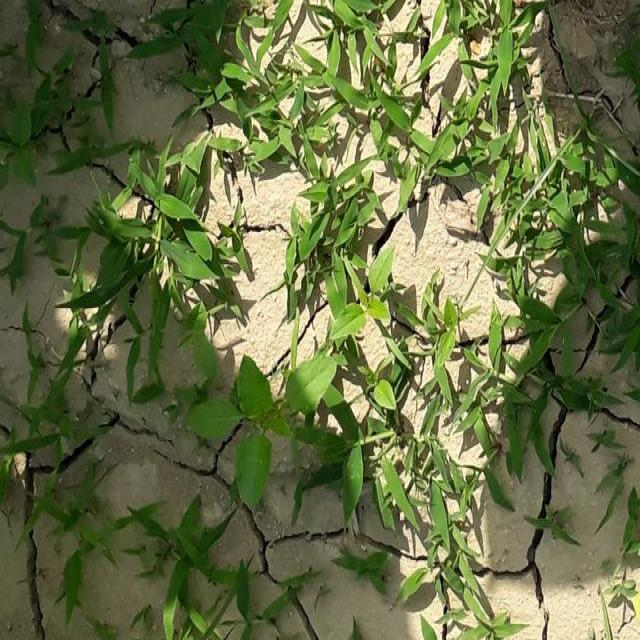weed: (273, 77, 509, 640), (522, 106, 638, 440), (86, 127, 239, 355)
